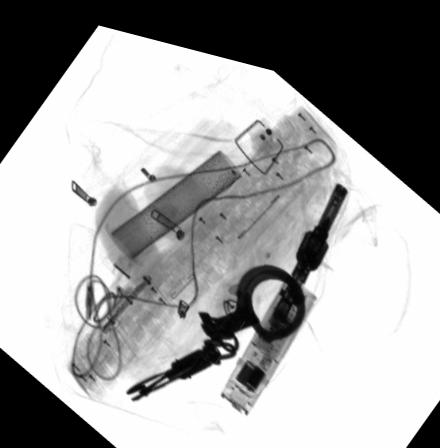Baton: (221, 260, 319, 405)
Gun: (270, 163, 348, 327)
HandCuffs: (126, 248, 307, 395)
